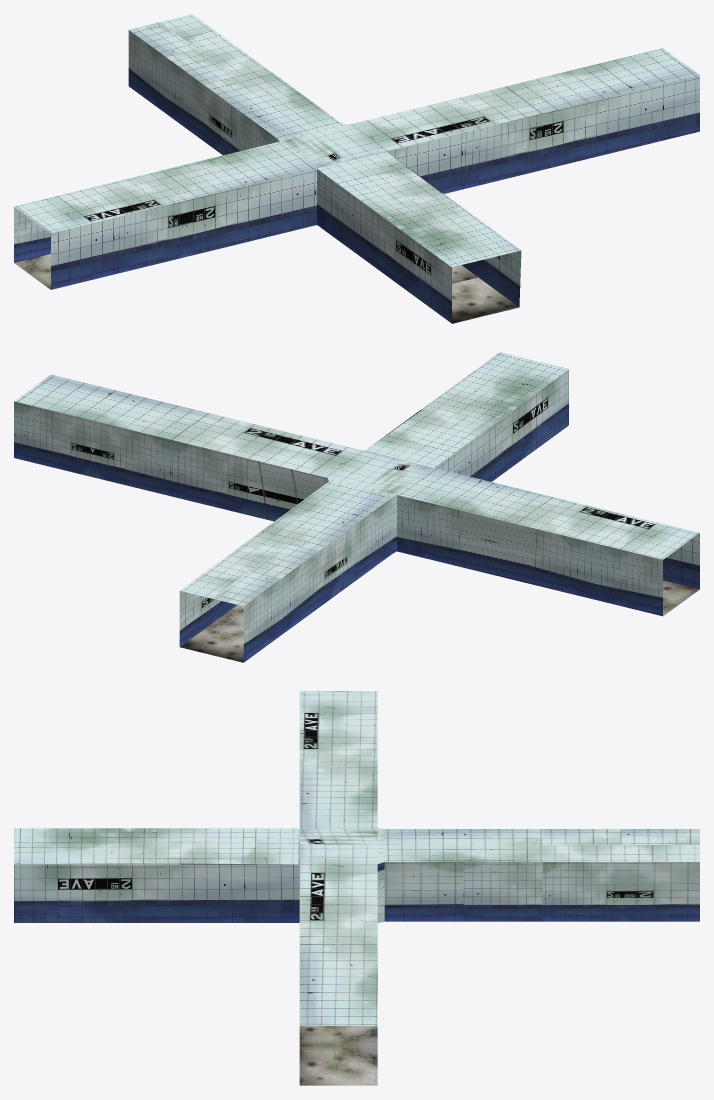
Rendered from metro 4 way tile.fbx.
3 renders of one model, top to bottom at view 1: azimuth 30°, elevation 25°; view 2: azimuth 150°, elevation 25°; view 3: azimuth 270°, elevation 25°, orthographic. The views are drawn at different scales.
Visible parts, largest first — view 1: hallway T bone; view 2: hallway T bone; view 3: hallway T bone.
Boxes of the visible parts, <box> form: hallway T bone: <box>14,14,699,323</box>; hallway T bone: <box>14,352,699,662</box>; hallway T bone: <box>14,691,699,1085</box>.
Size of the model in its own units: 8426 by 810 by 9733.
